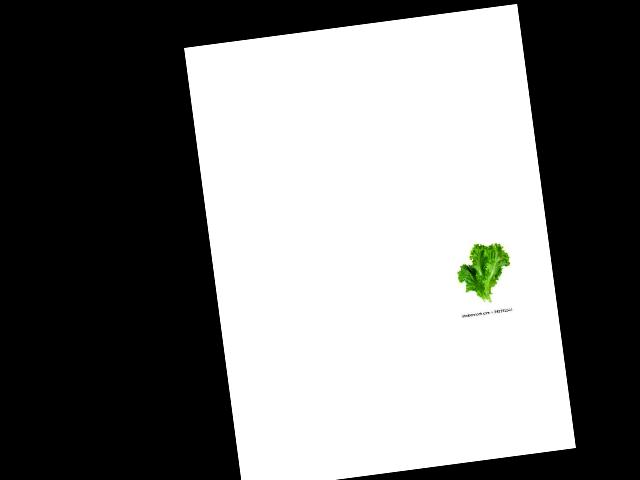lettuce: (452, 238, 514, 310)
